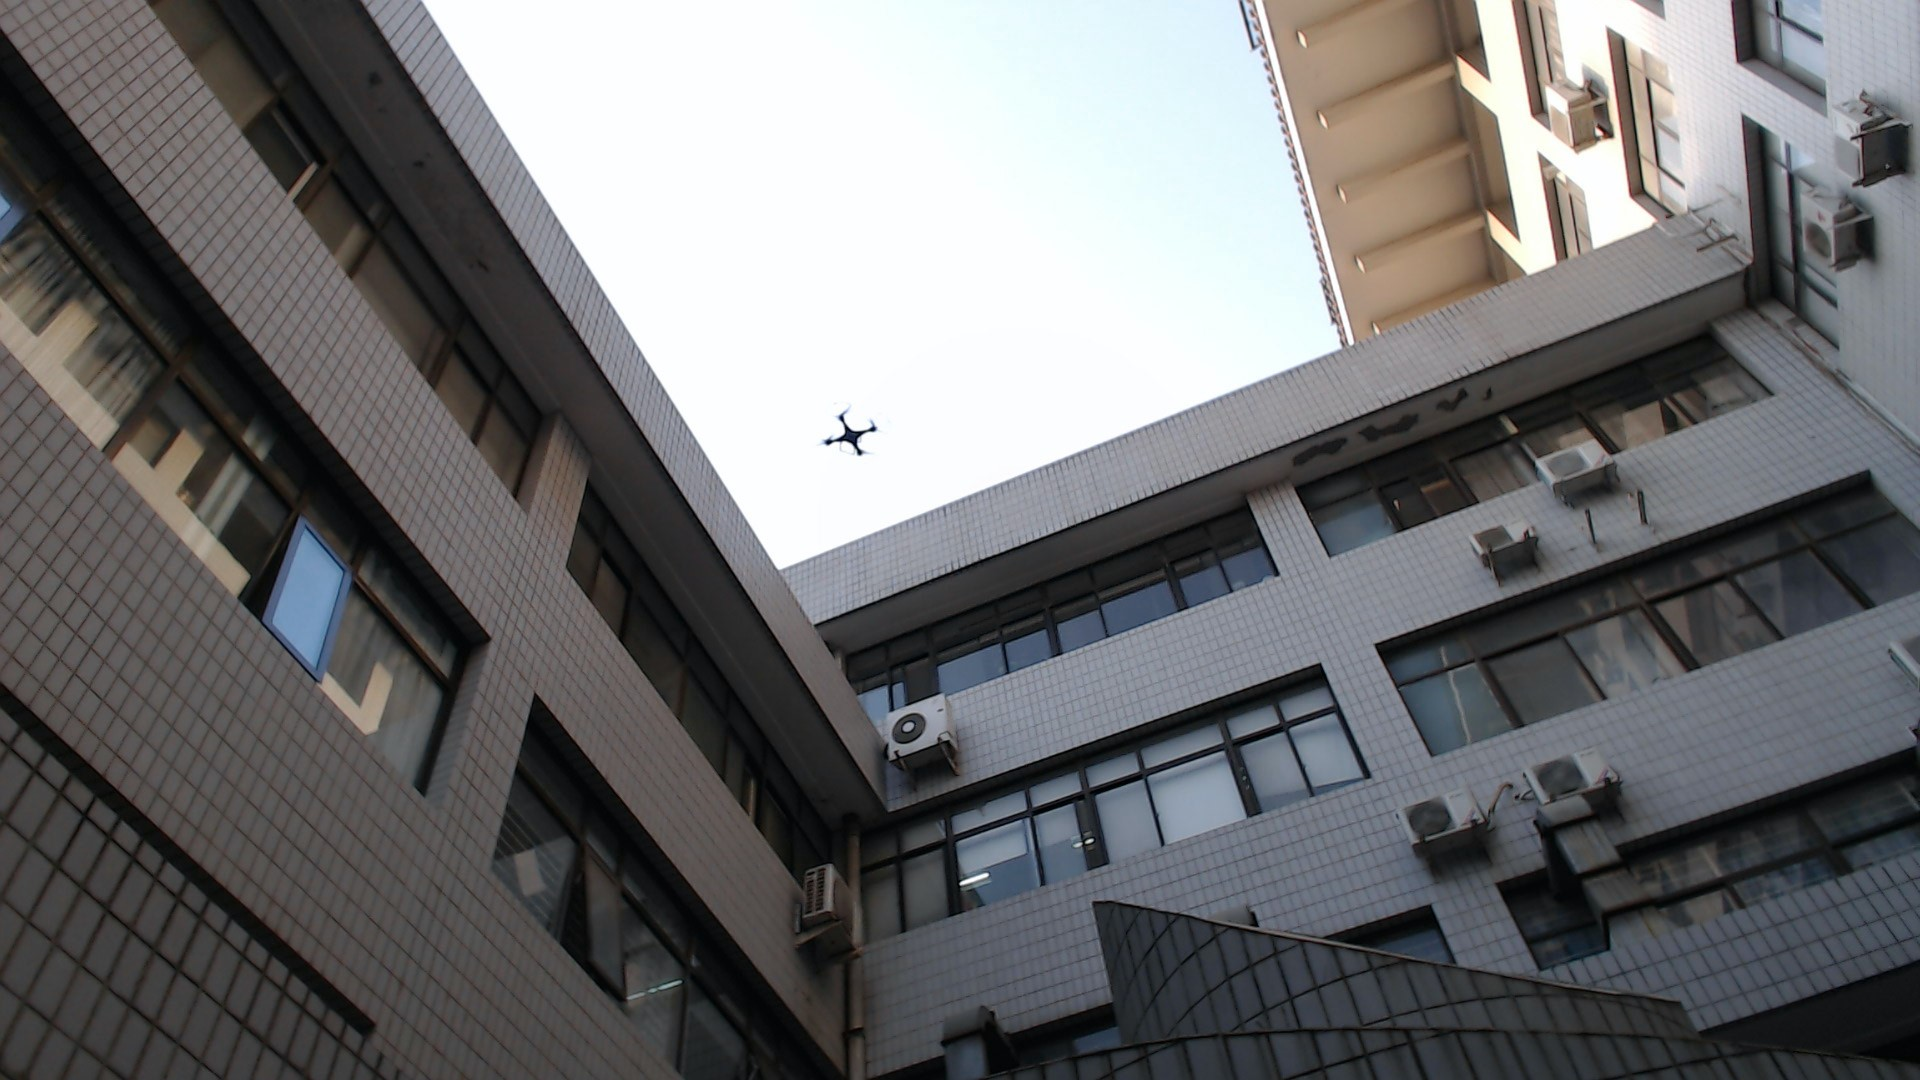drone: (794, 392, 901, 476)
